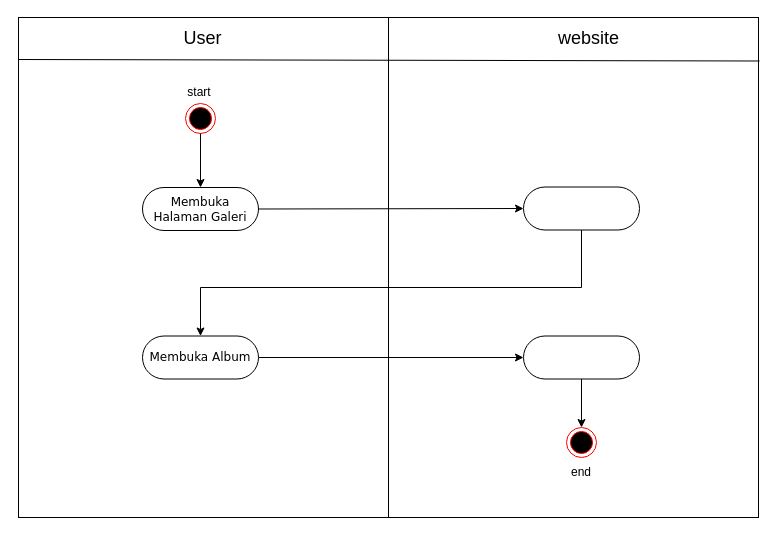
The diagram is 778 pixels wide and 536 high, and some of its shapes have lost their labels. Each missing label, with the centre of its shape:
"menampilkan daftar album" belongs at [581,208].
"menampilkan daftar gambar" belongs at [581,357].
